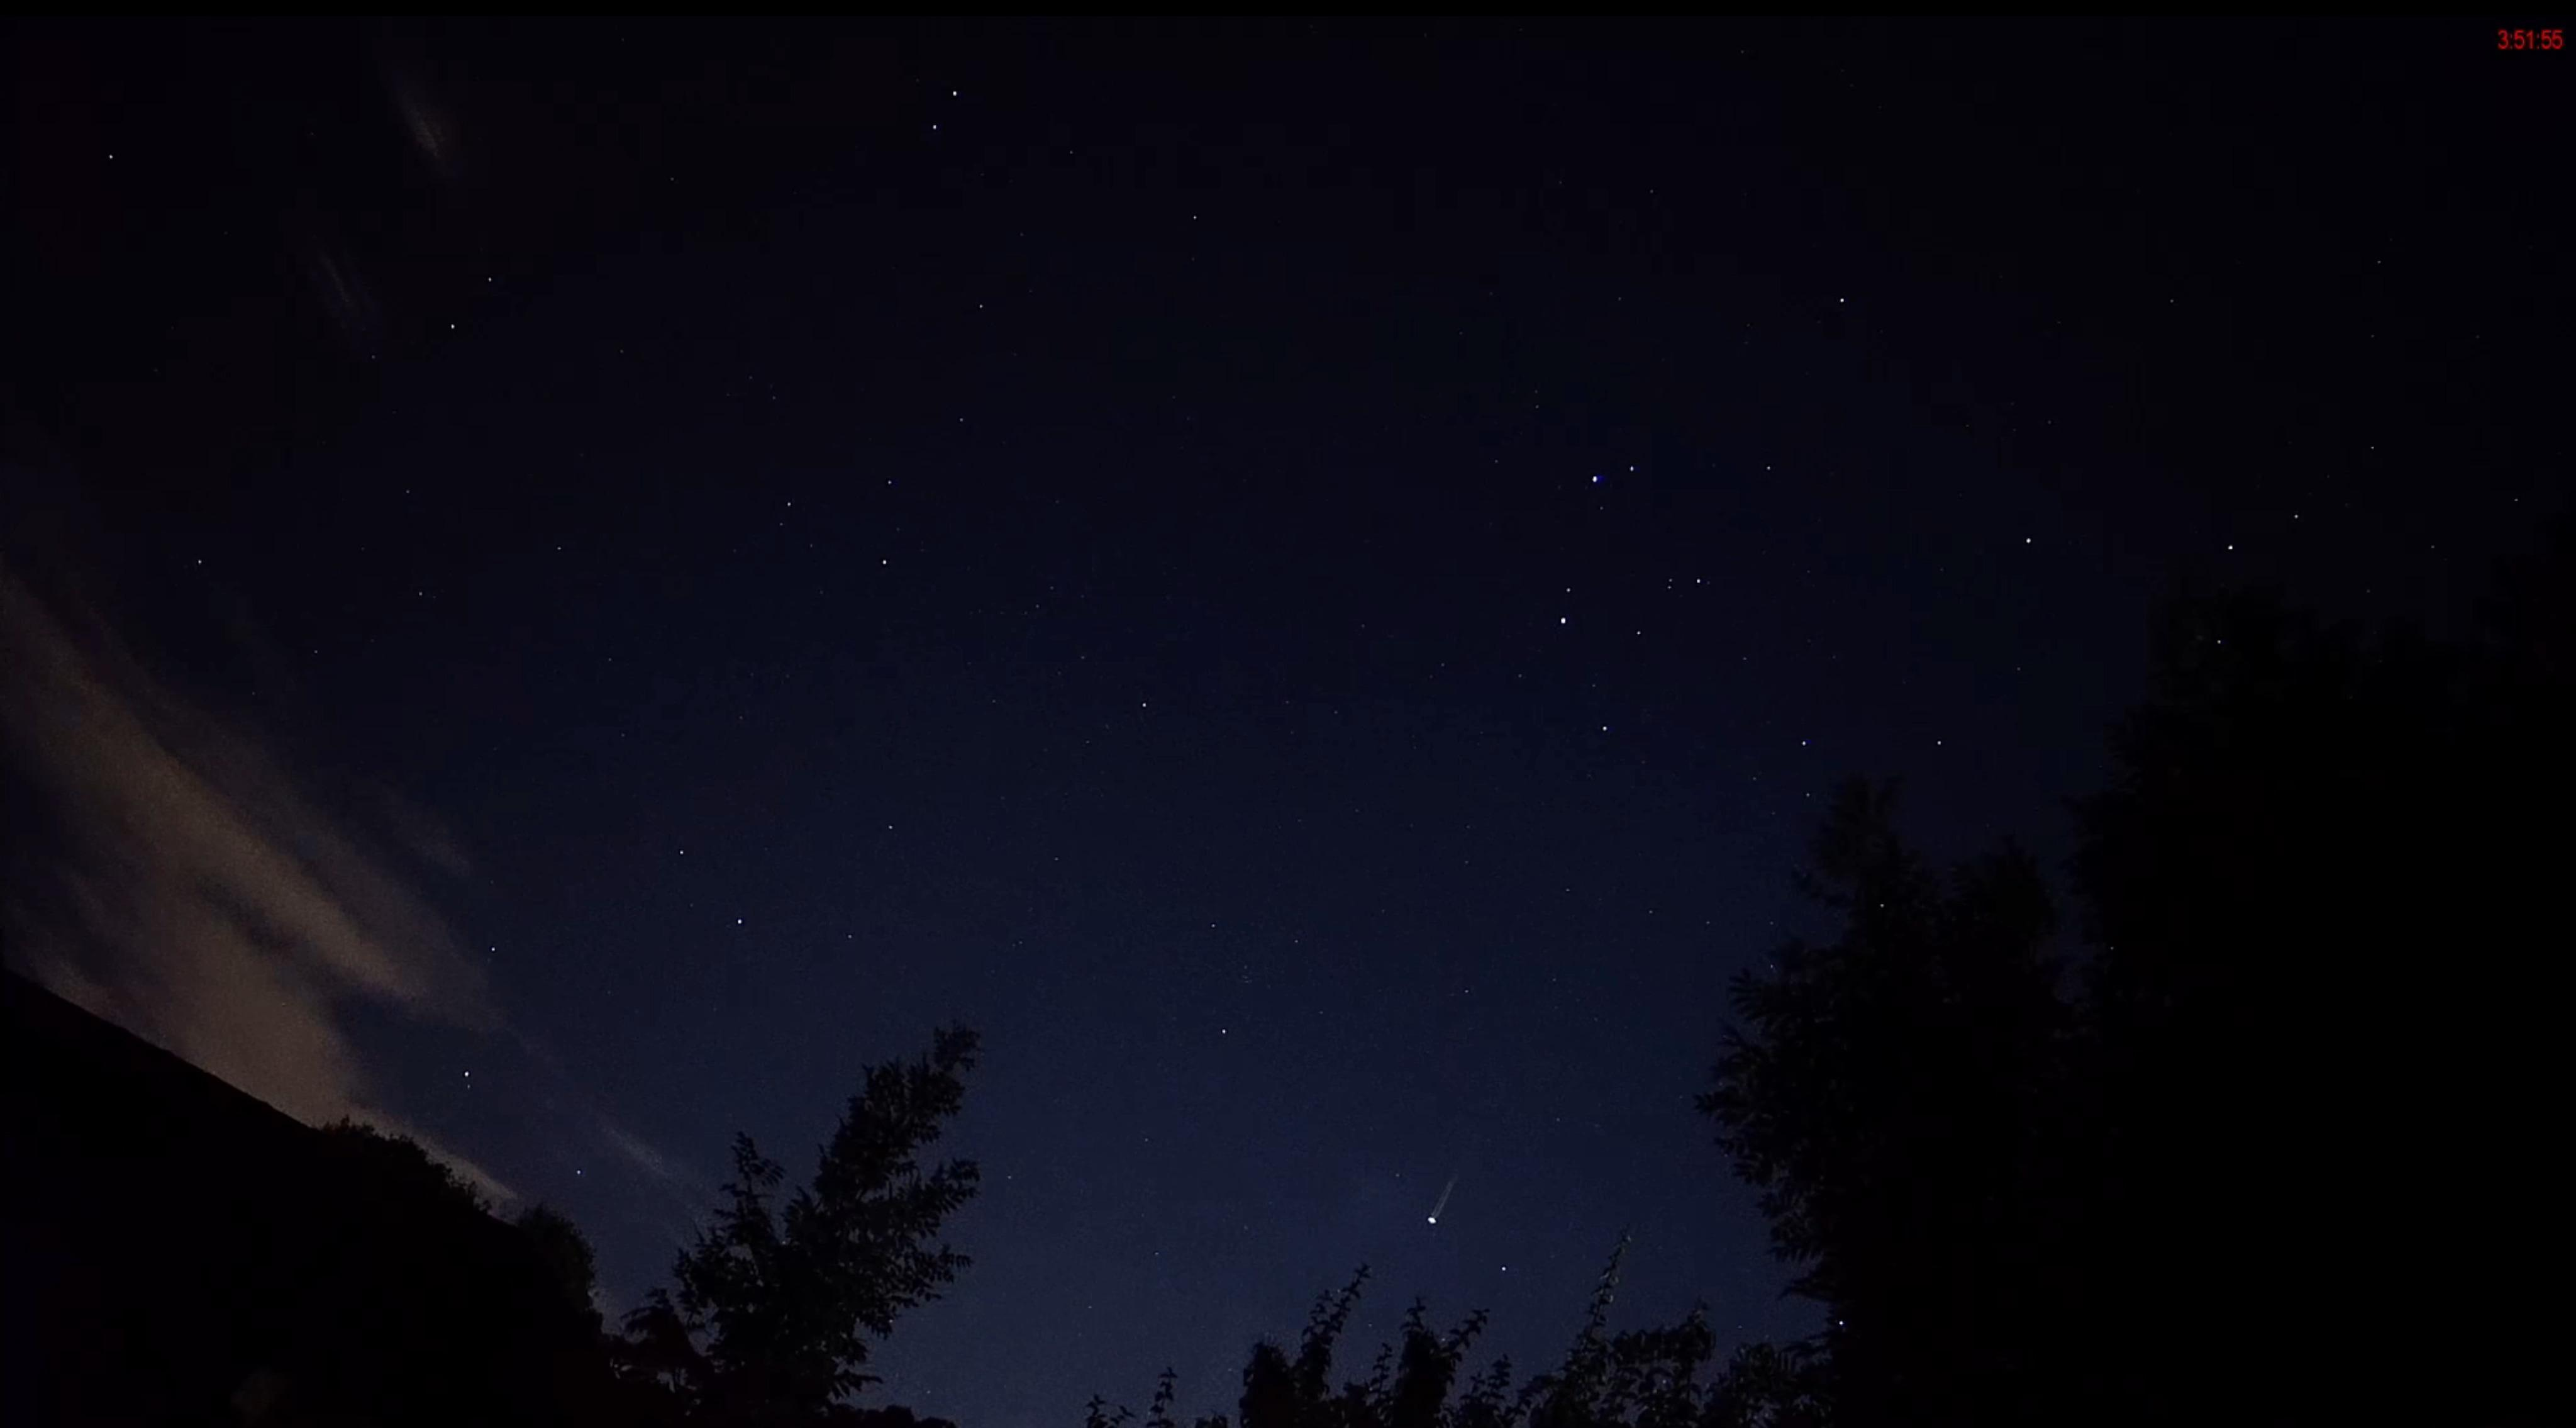Plane: (1409, 1169, 1487, 1231)
